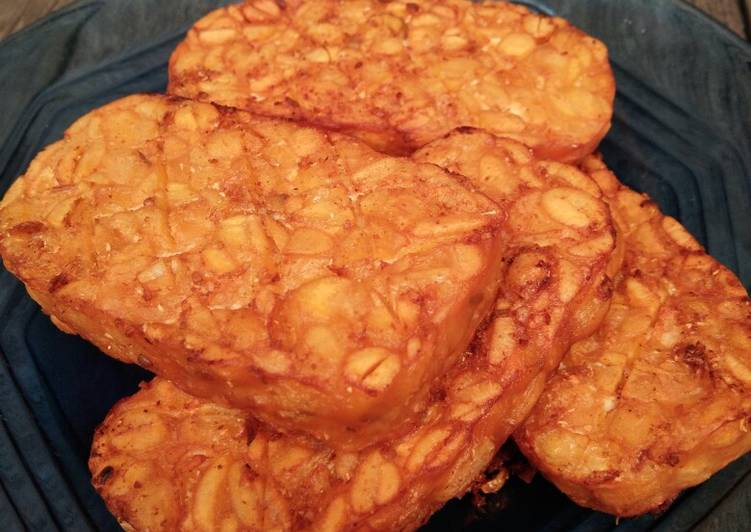Tempe: (33, 97, 466, 432), (540, 160, 745, 512)
